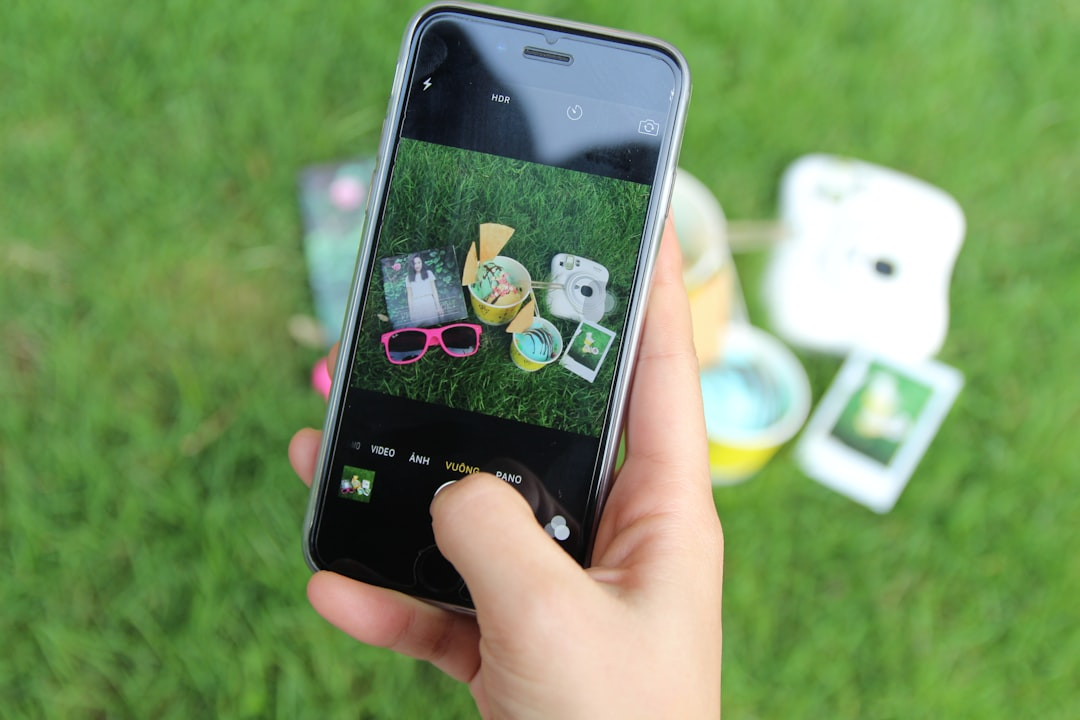phone: (302, 4, 690, 618)
